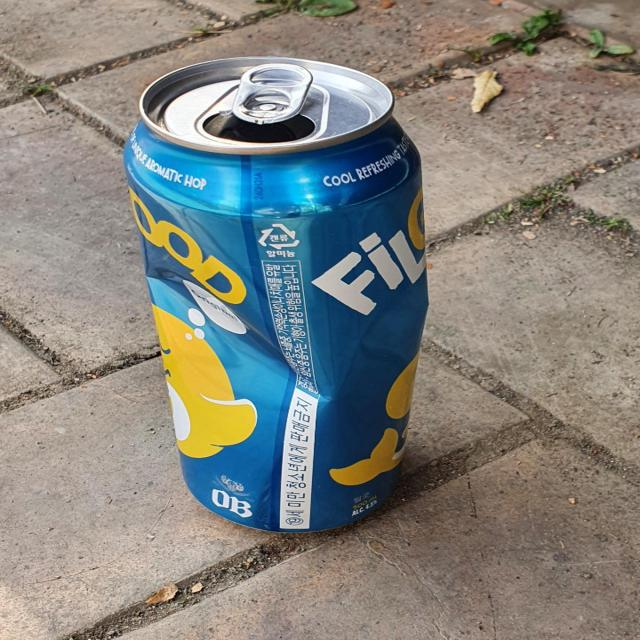can: (123, 56, 428, 533)
